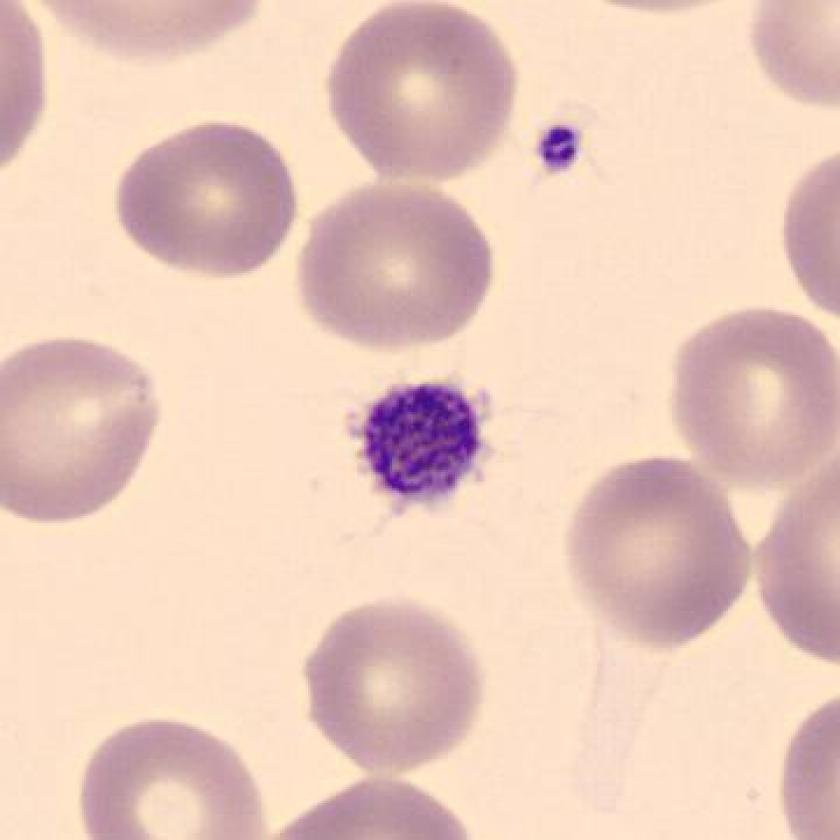platelets: (349, 372, 500, 520), (517, 117, 601, 188)
